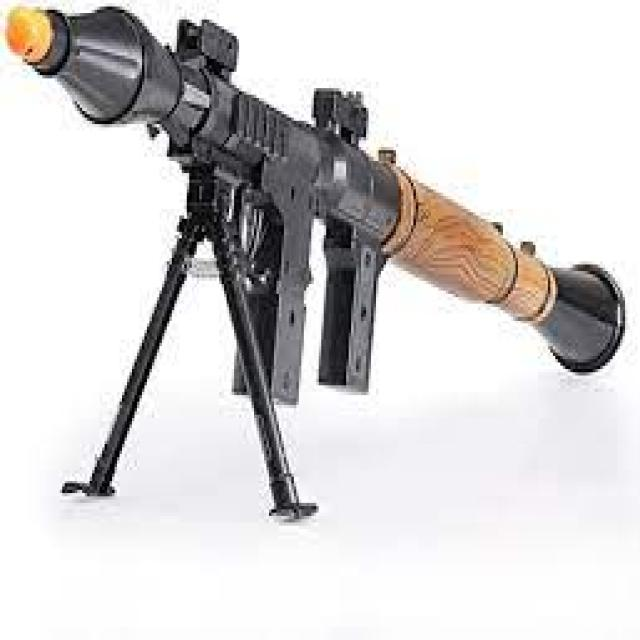bazooka: (1, 1, 629, 520)
